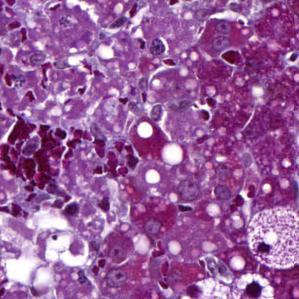ballooning: (245, 206, 296, 268), (181, 270, 276, 299)
